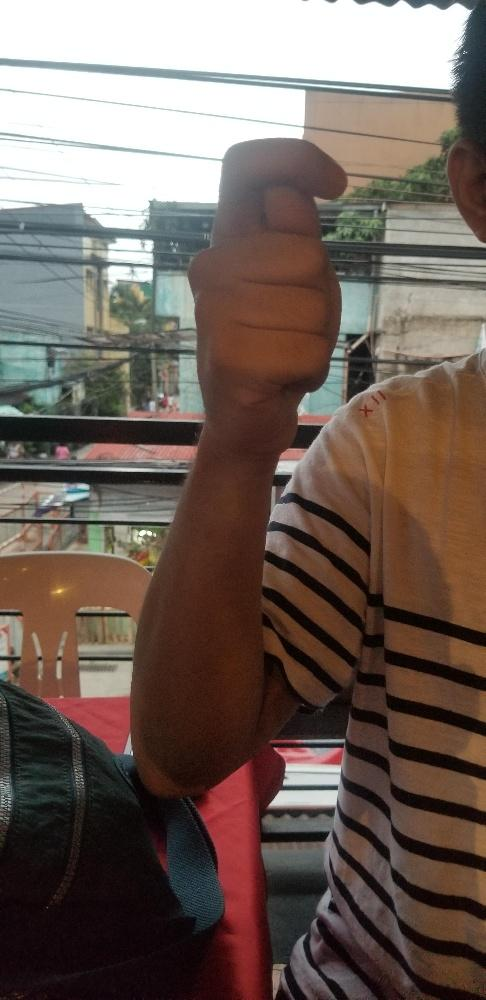t: (185, 136, 346, 449)
